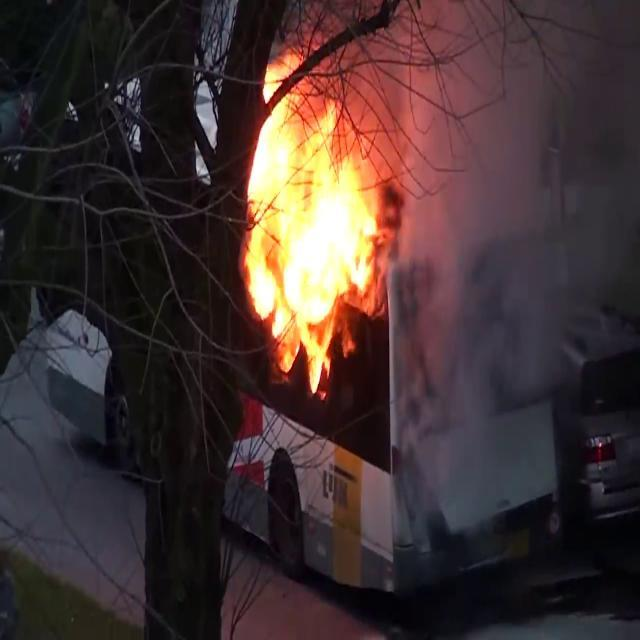Fire: (234, 48, 394, 388)
Smoke: (386, 0, 639, 484)
